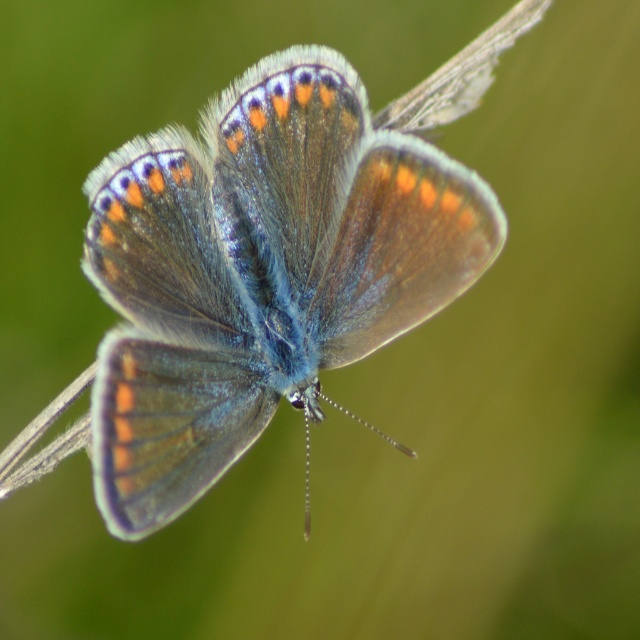Butterfly: (78, 45, 507, 539)
